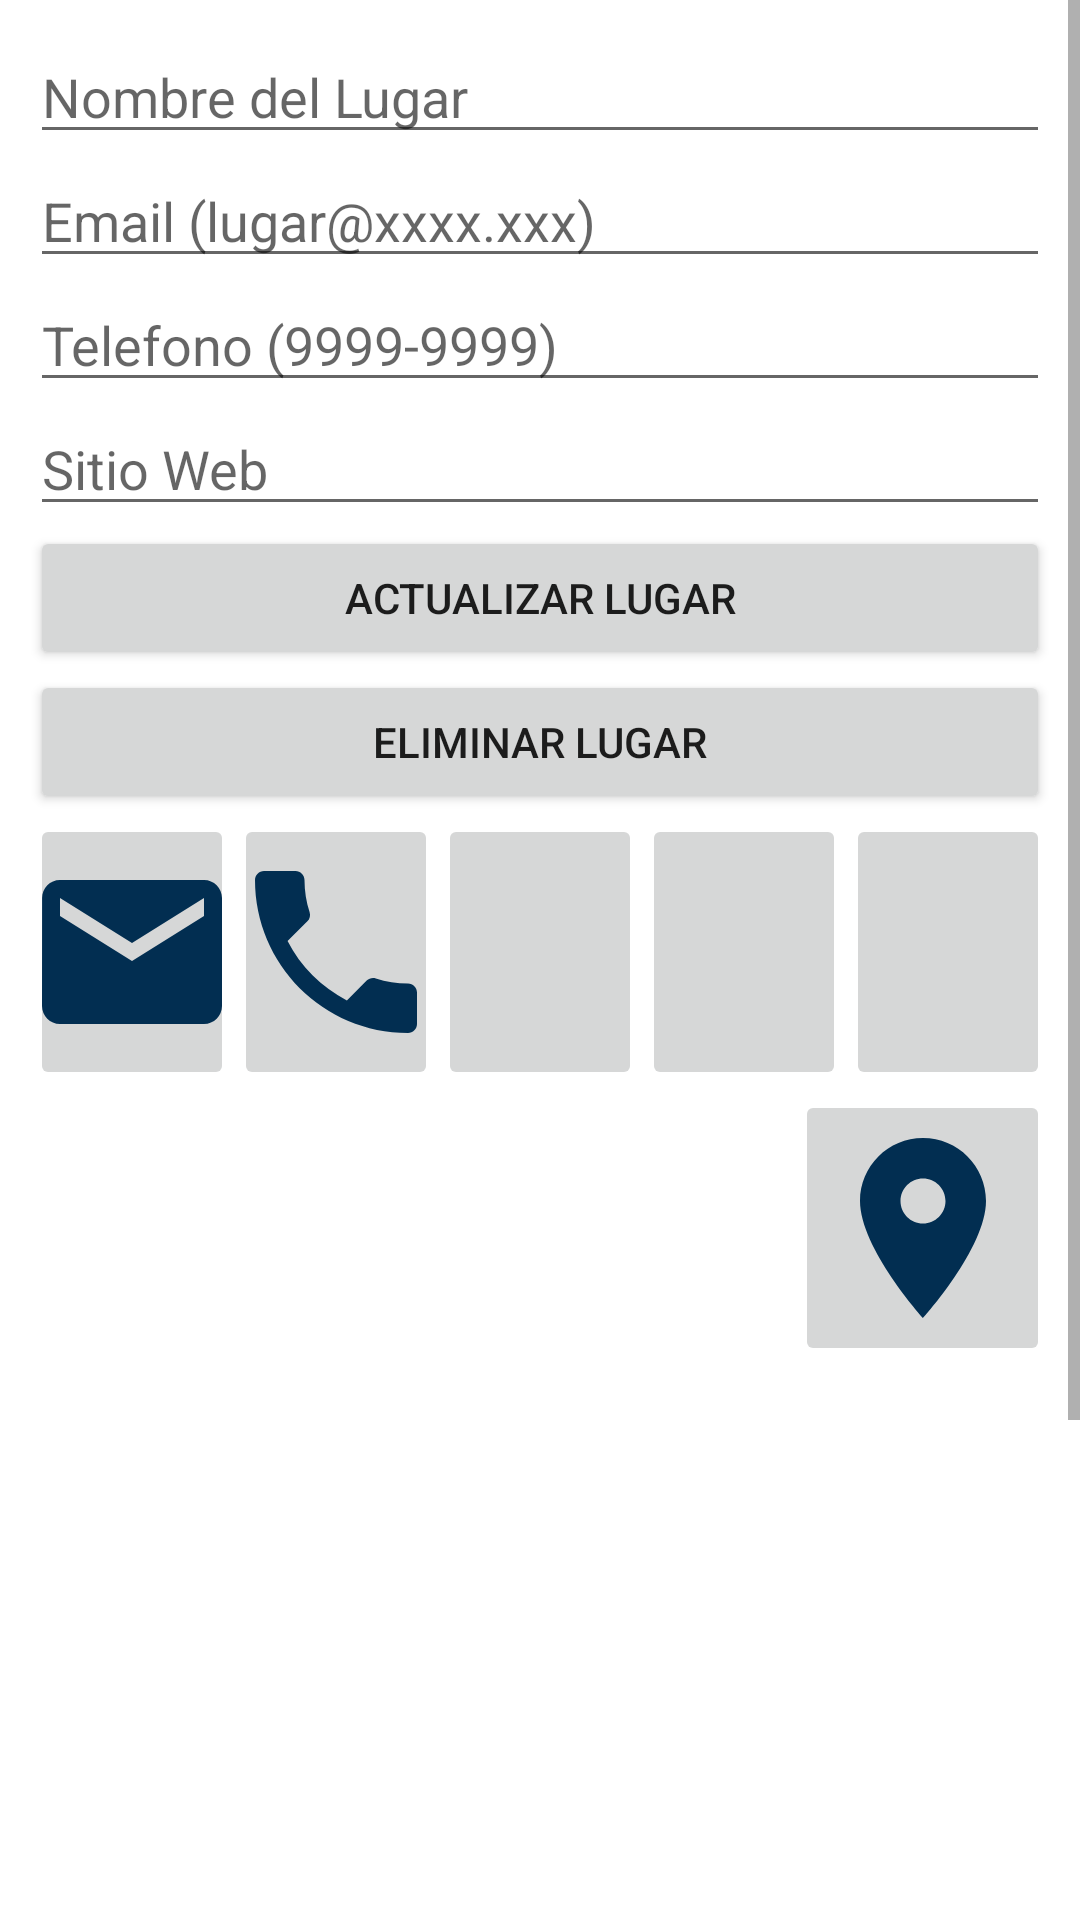

Icons on this 1080x1920 Android screen, each with the point to tap as [x,y]:
Enviar correo electrónico: [132,952]
Realizar llamada telefónica: [336,952]
Ver lugar en mapa: [922,1228]
